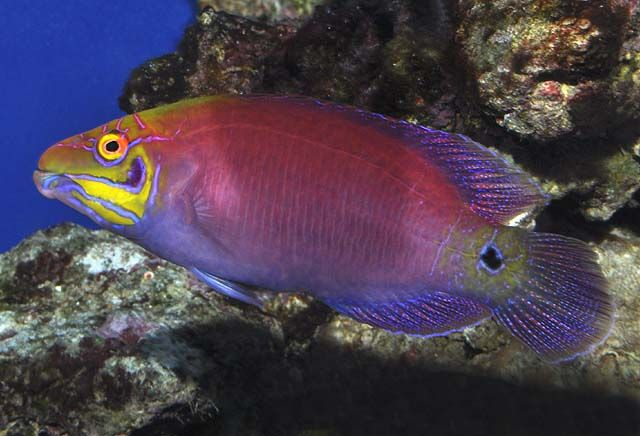fish: (32, 93, 617, 365)
